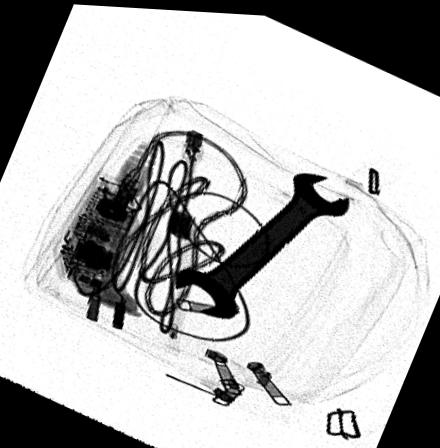Wrench: (171, 170, 350, 317)
